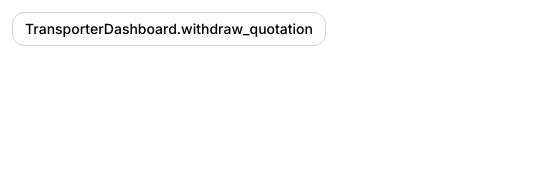
Scenario: I-5 §3F — withdraw and resubmit, nothing else › surfaces a refusal the server still enforces
Click the button "TransporterDashboard.withdraw_quotation": coordinates (169, 29) x1=12 y1=12 x2=326 y2=46
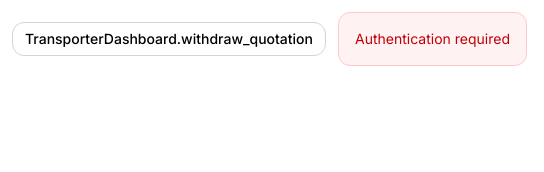
Now the message reads "Authentication required", box x1=355 y1=30 x2=510 y2=47
